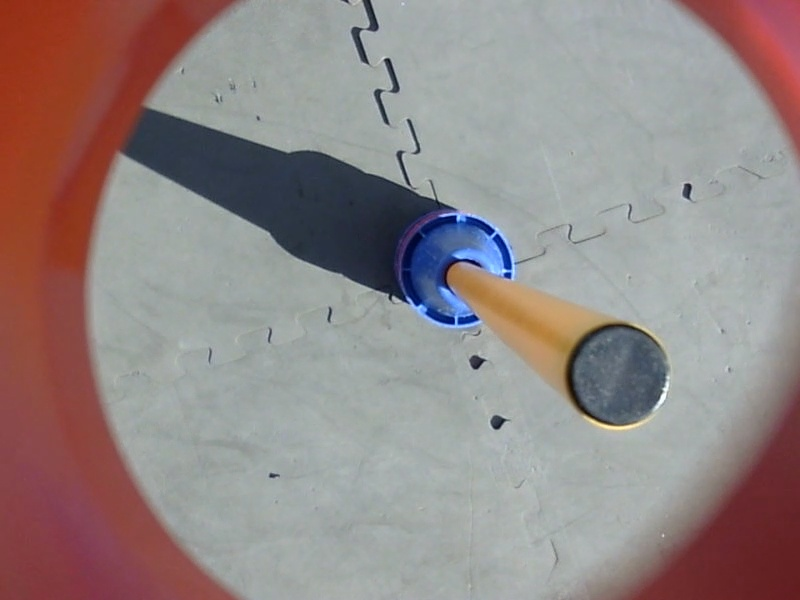tip: (560, 314, 678, 434)
